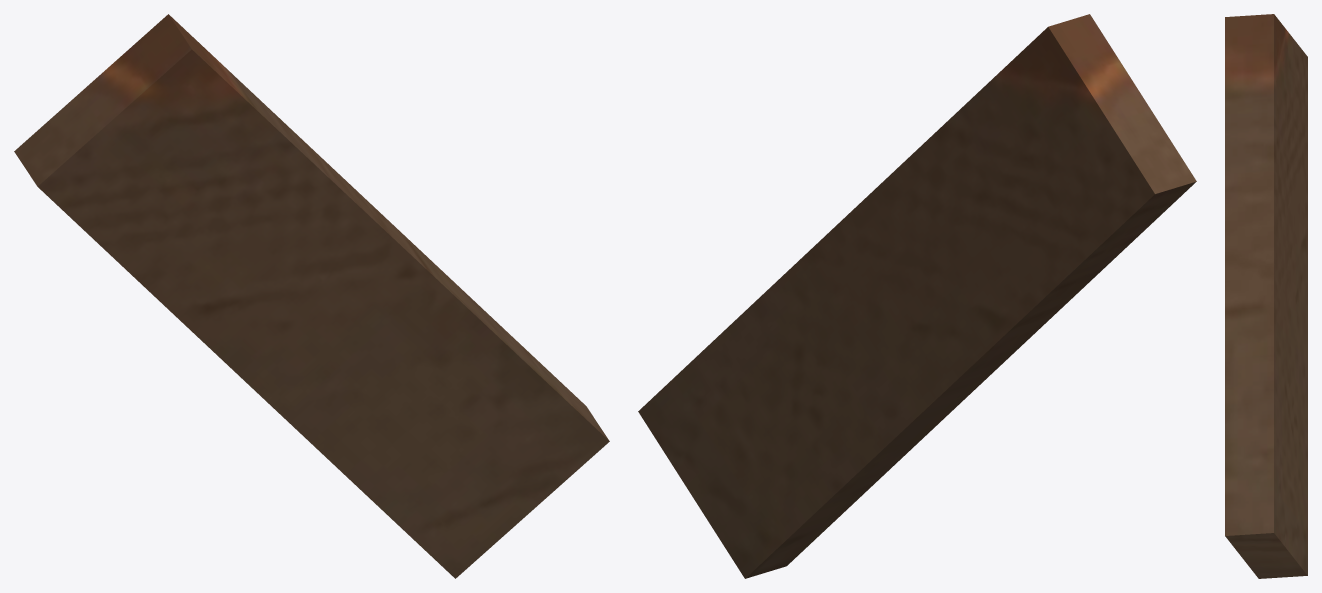
The model's file is fan_left__blade_7.glb.
The picture shows the model from 3 angles, left to right: view 1: azimuth 30°, elevation 25°; view 2: azimuth 150°, elevation 25°; view 3: azimuth 270°, elevation 25°; orthographic projection. The views are drawn at different scales.
Visible parts, largest first — view 1: geometry_0; view 2: geometry_0; view 3: geometry_0.
Part boxes in pixels (x1,y1,x2,y2): geometry_0: [14, 14, 609, 578]; geometry_0: [638, 14, 1196, 578]; geometry_0: [1225, 14, 1307, 578].
Size of the model in its own units: 0.0248 by 0.0265 by 0.00428.
Materials: 1 (1 with a texture image).
